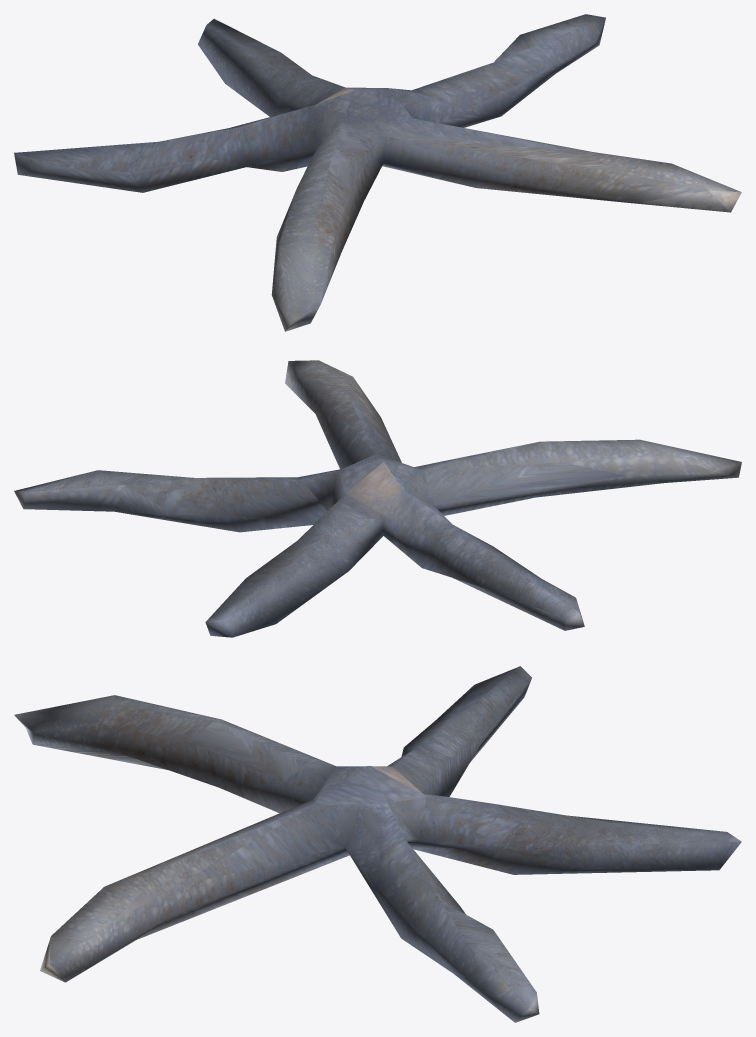
Rendered from SM_Starfish_02_LOD2.fbx.
3 views of the same model, one above another, from view 1: azimuth 30°, elevation 25°; view 2: azimuth 150°, elevation 25°; view 3: azimuth 270°, elevation 25° (orthographic). The views are drawn at different scales.
Parts seen in each view (by area): view 1: SM_Starfish_02_LOD2; view 2: SM_Starfish_02_LOD2; view 3: SM_Starfish_02_LOD2.
Part boxes in pixels (bbox=[...]): SM_Starfish_02_LOD2: bbox=[14, 14, 741, 331]; SM_Starfish_02_LOD2: bbox=[14, 360, 741, 637]; SM_Starfish_02_LOD2: bbox=[14, 666, 741, 1022].
Size of the model in its own units: 24.32 by 3.21 by 22.84.
1 material, 1 textured.
